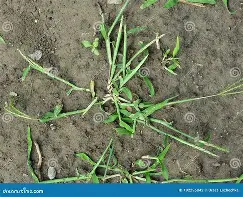weed: (70, 15, 207, 185)
